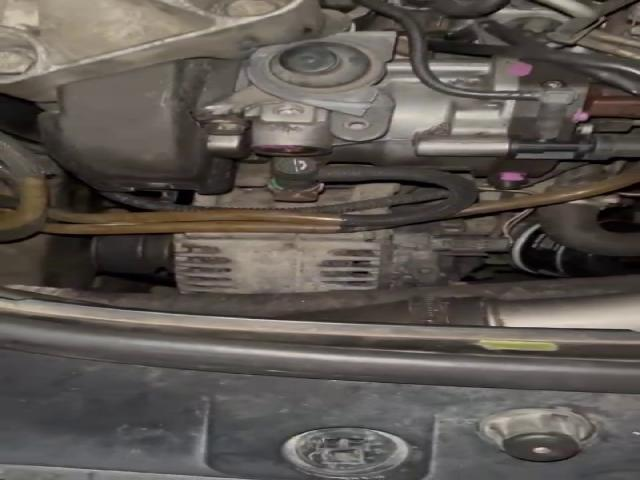alternator: (173, 219, 517, 296)
high_pressure_pump: (243, 52, 636, 188)
